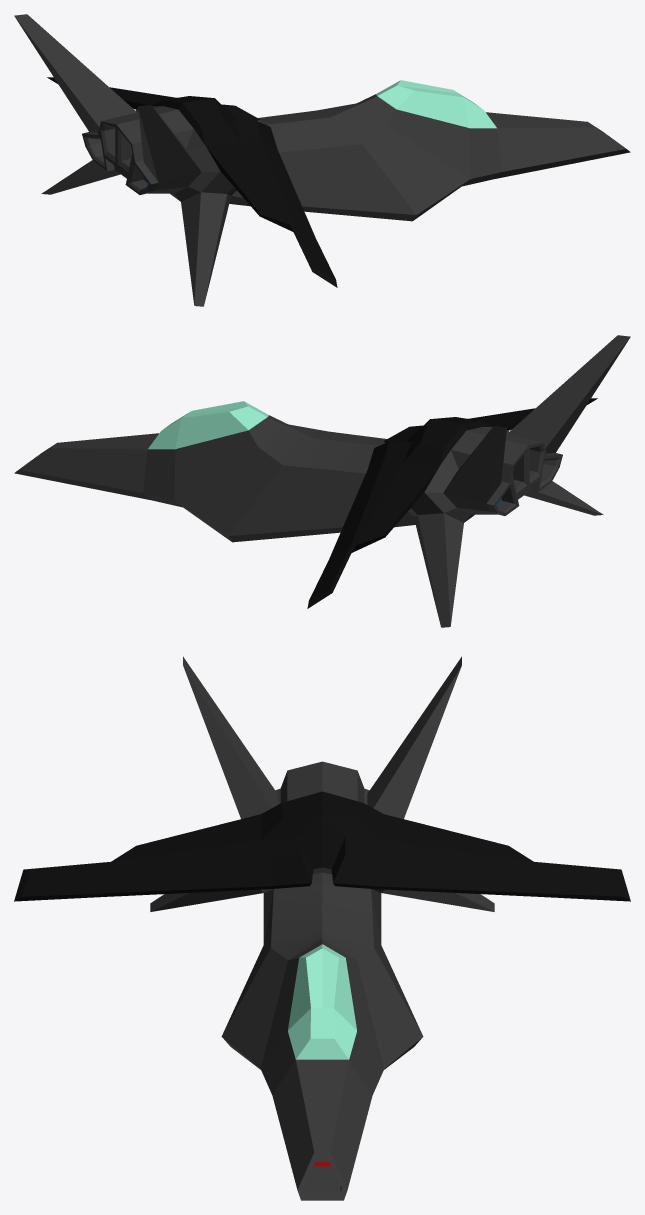
Rendered from SM_PlayershipType2.FBX.
3 renders of one model, top to bottom at view 1: azimuth 30°, elevation 25°; view 2: azimuth 150°, elevation 25°; view 3: azimuth 270°, elevation 25°, orthographic. The views are drawn at different scales.
Parts seen in each view (by area): view 1: Object; view 2: Object; view 3: Object.
Boxes of the visible parts, left/top/right/bottom form: Object: left=14, top=14, right=630, bottom=306; Object: left=14, top=335, right=630, bottom=627; Object: left=14, top=656, right=630, bottom=1200.
Bounding box in the file's own units: 103 × 39.35 × 89.93.
